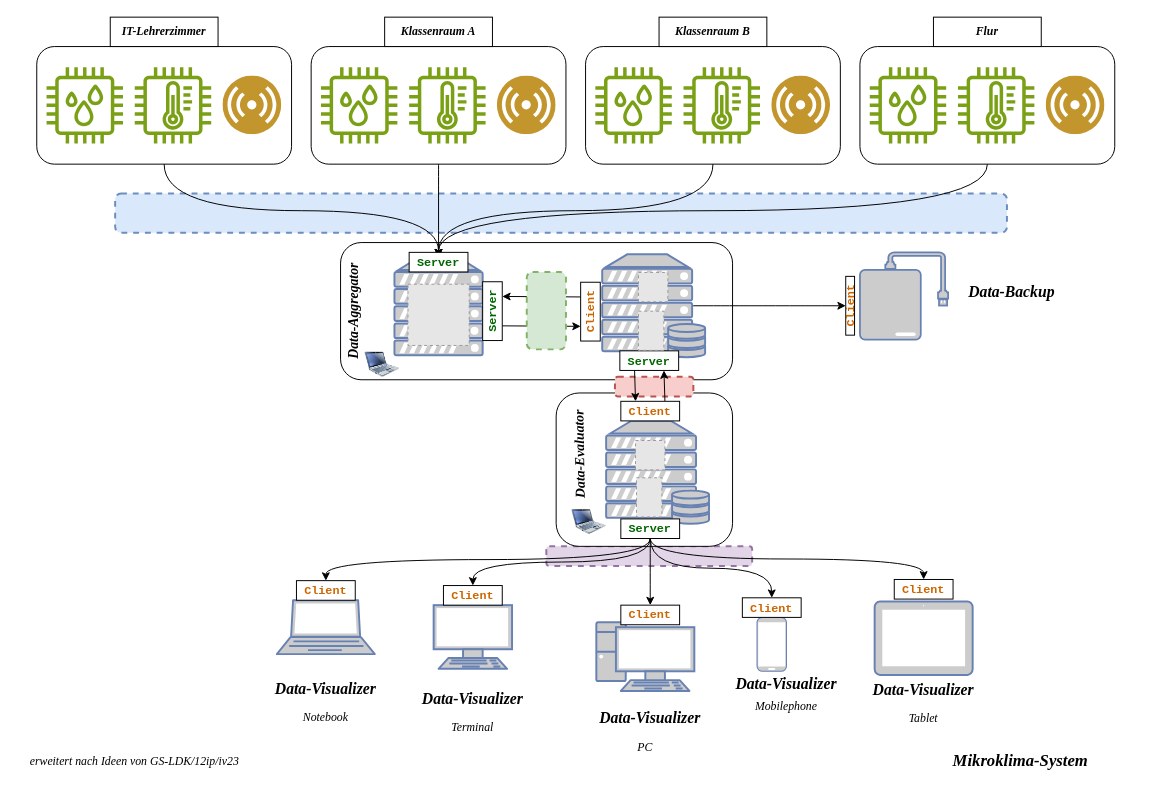
The diagram is 1169 pixels wide and 799 high, and some of its shapes have lost their labels. Grey dashed boxes stand in for pictures. Here are the shapes that lost their labels. From the top down, the centre of each, then its label:
point 560,212: publishing
point 545,310: subscription
point 653,386: rest
point 649,555: http/html
